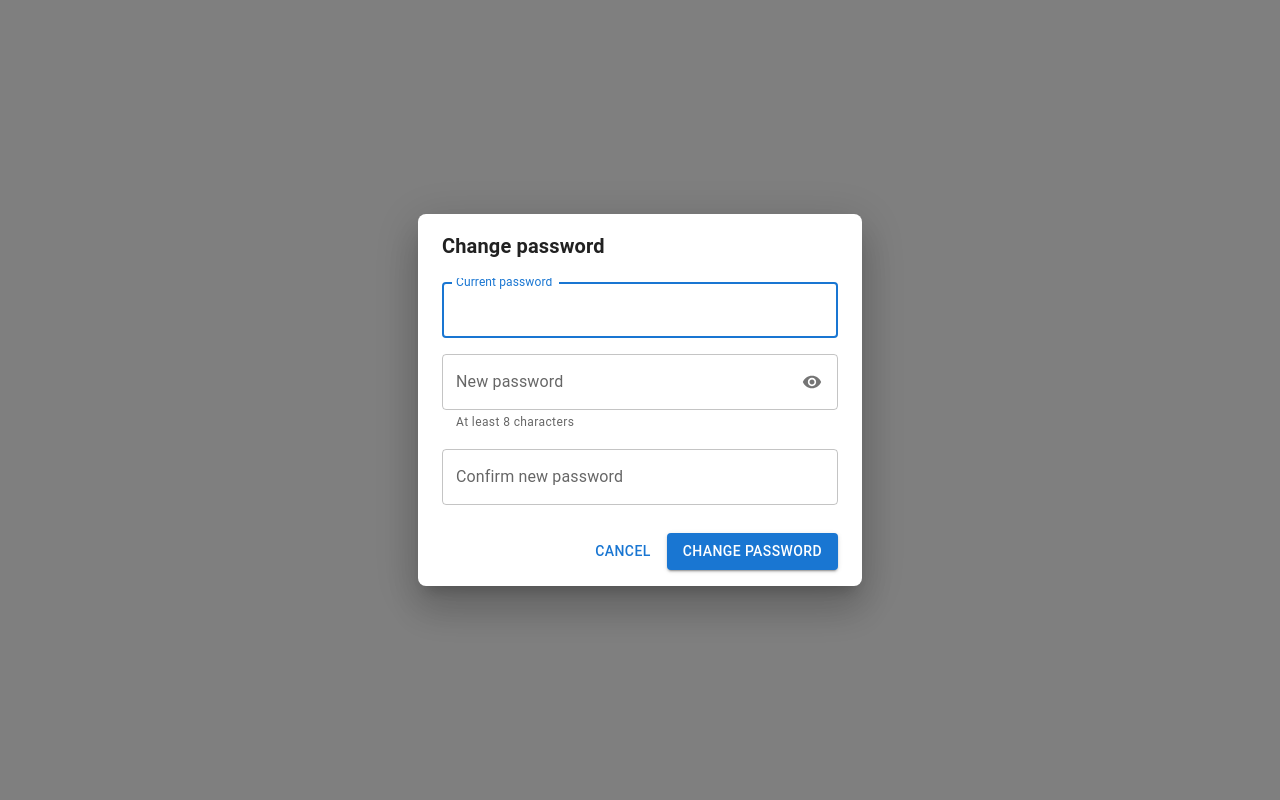
Scenario: ChangePasswordDialog › shows the server error and keeps the form open
The image size is (1280, 800).
Type "wrong-wrong" into the password field labelled "Current password". click: (640, 310)
box: [442,282,838,338]
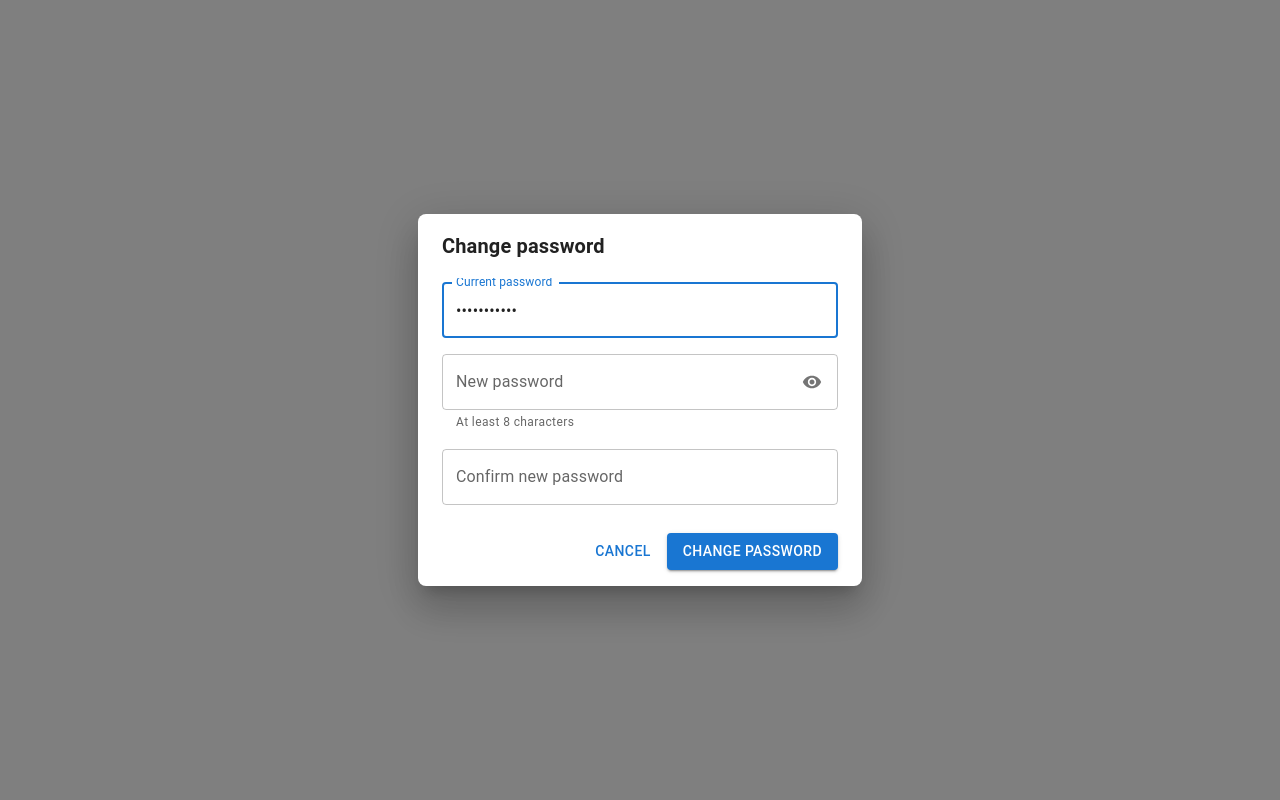
Type "New-Pass-22" into the password field labelled "New password". click: (616, 382)
box: [442,354,789,410]
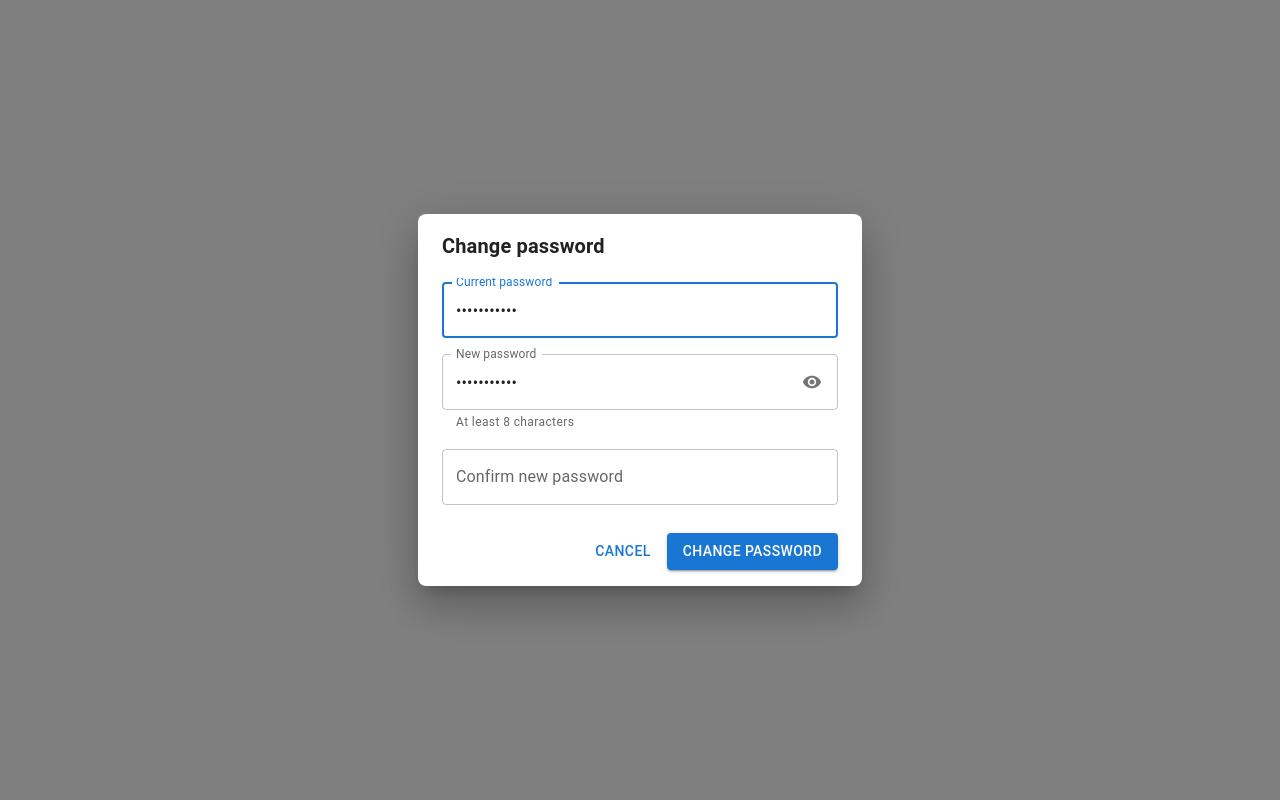
Type "New-Pass-22" into the password field labelled "Confirm new password". click: (640, 477)
box: [442,449,838,505]
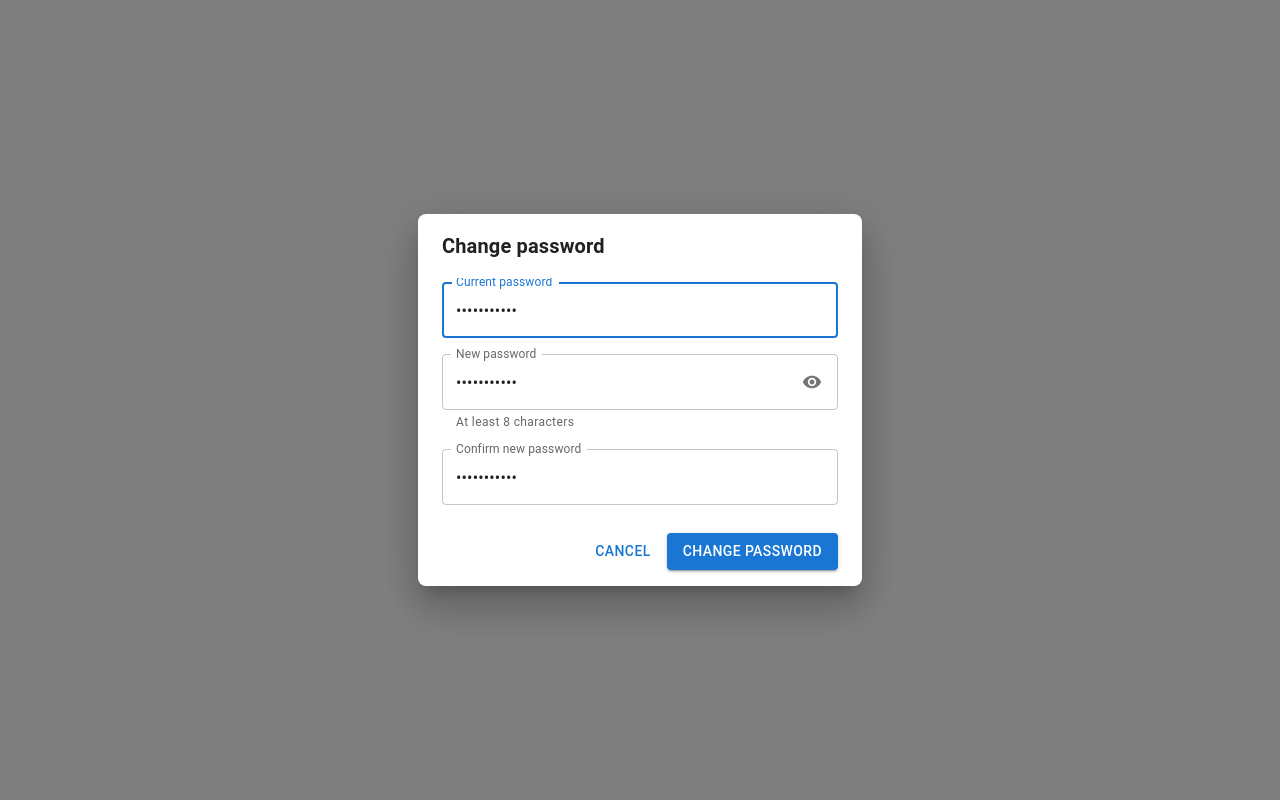
Click the button "Change password". click: click(752, 551)
box: [667,533,838,570]
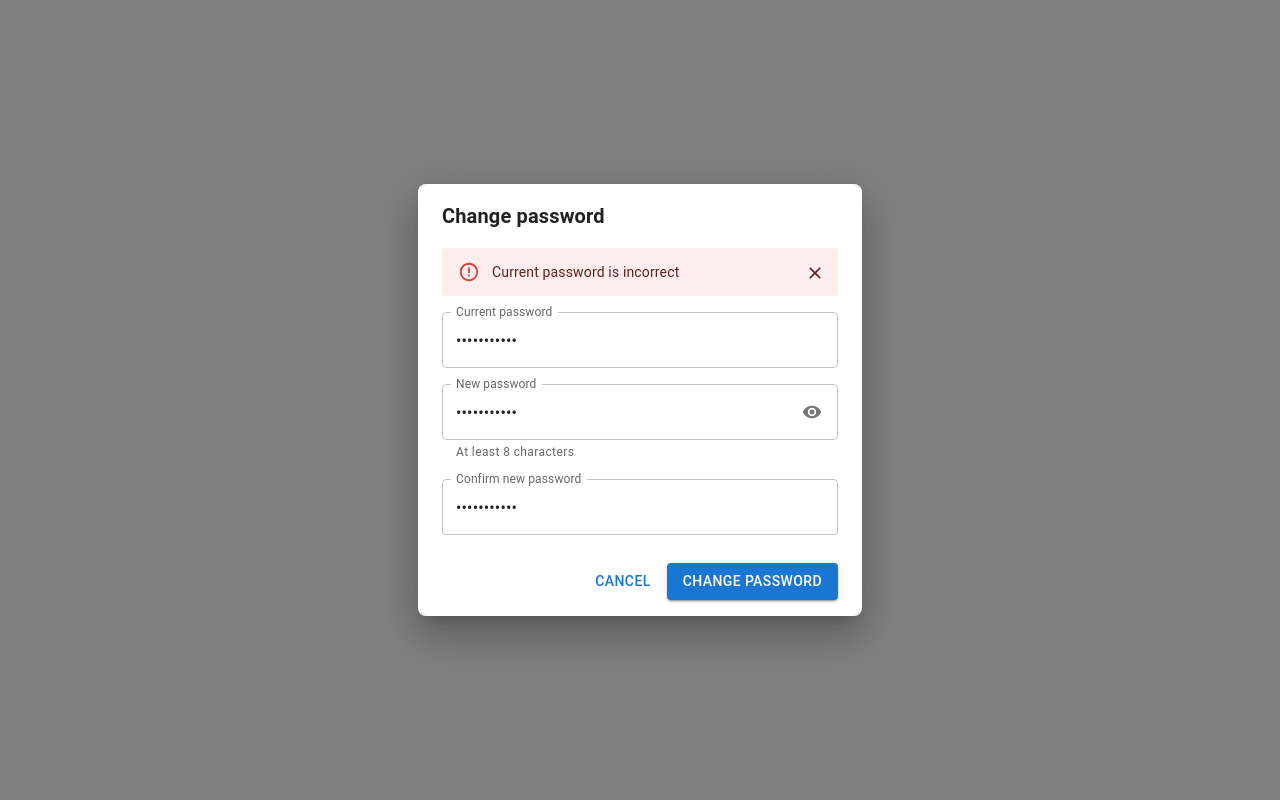
Check: the button "Change password" is enabled, box [667,563,838,600]
Check: the text "Current password is incorrect" is shown, box [492,264,679,280]
